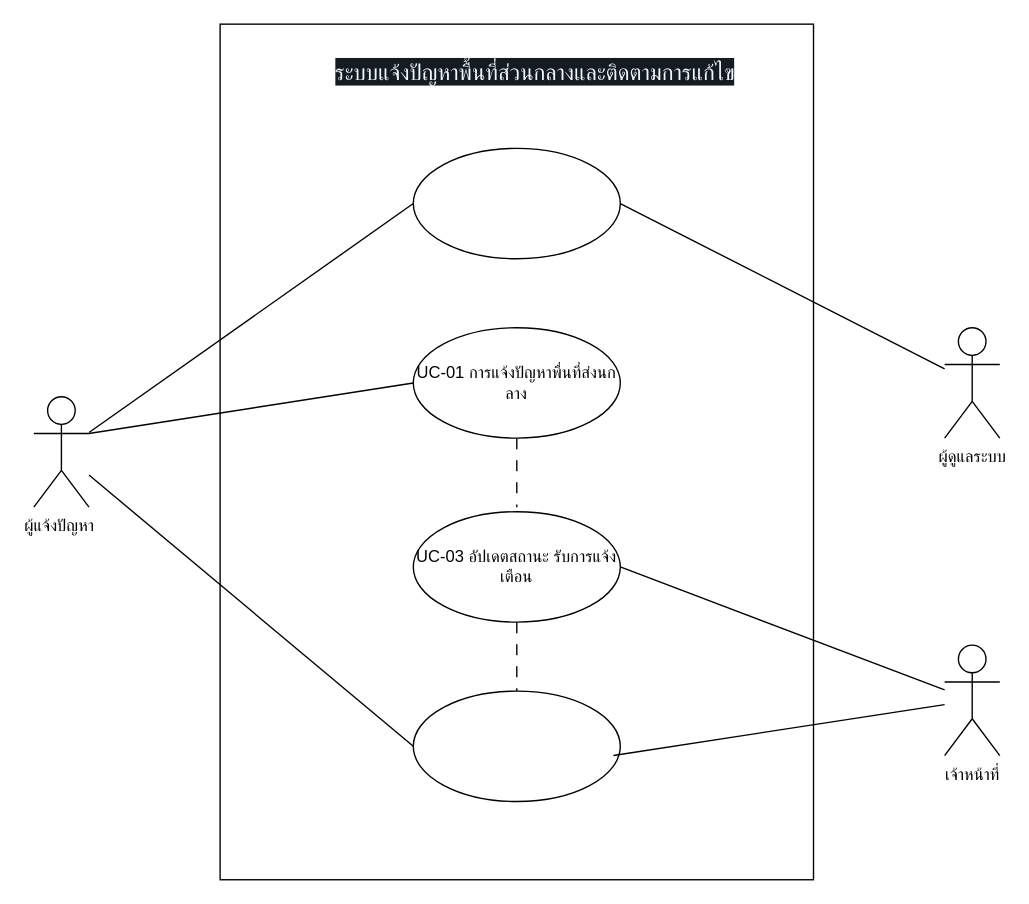
This 1029x904 diagram has some shape labels left out. The centre of each missing label's shape, as x and y in pixels:
"UC-02 ติดตามสถานะการดำเนินงานและรับการแจ้งเตือนเมื่อสถานะเปลี่ยน" goes at (x=516, y=746).
"UC-04 ค้นหาและตรวจสอบประวัติการดำเนินงาน ย้อนหลัง" goes at (x=516, y=203).
